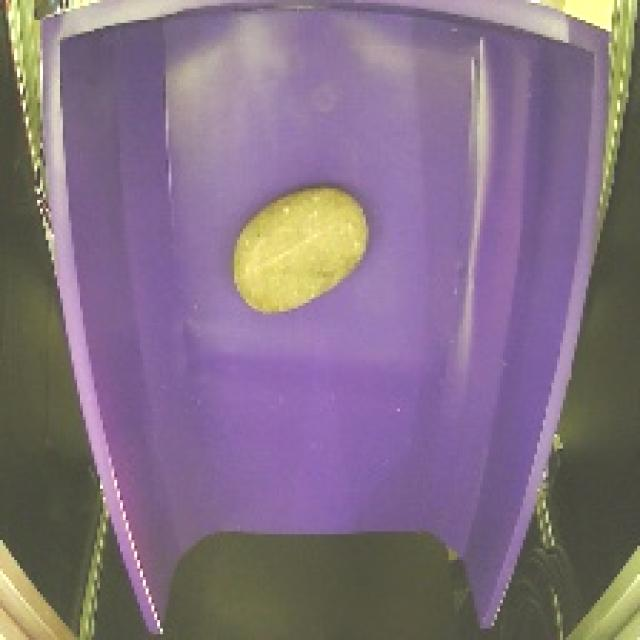cobbles: (224, 178, 381, 327)
